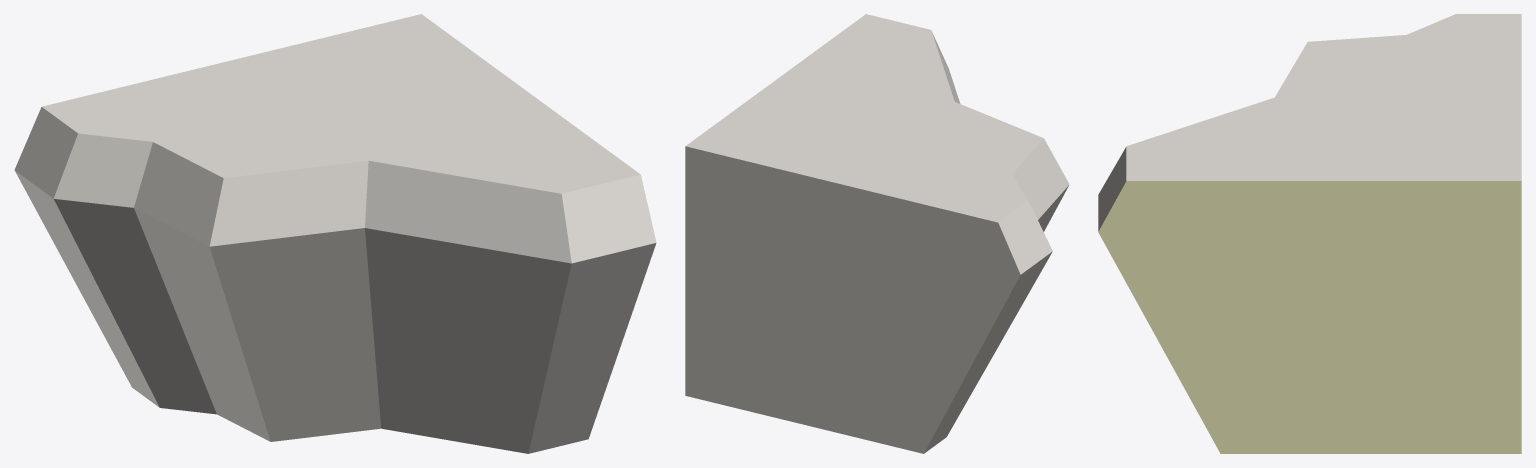
Rendered from Cracked_Curve_Outer_2x2_1_Top.glb.
3 renders of one model, left to right at view 1: azimuth 30°, elevation 25°; view 2: azimuth 150°, elevation 25°; view 3: azimuth 270°, elevation 25°, orthographic. The views are drawn at different scales.
Visible parts, largest first — view 1: Cracked_Curve_Outer_2x2_1_Top; view 2: Cracked_Curve_Outer_2x2_1_Top; view 3: Cracked_Curve_Outer_2x2_1_Top.
Part boxes in pixels (x1,y1,x2,y2): Cracked_Curve_Outer_2x2_1_Top: (14,14,656,453); Cracked_Curve_Outer_2x2_1_Top: (685,14,1069,453); Cracked_Curve_Outer_2x2_1_Top: (1098,14,1521,453).
Size of what is drawn, in the model's own units: 141 by 100 by 141.
